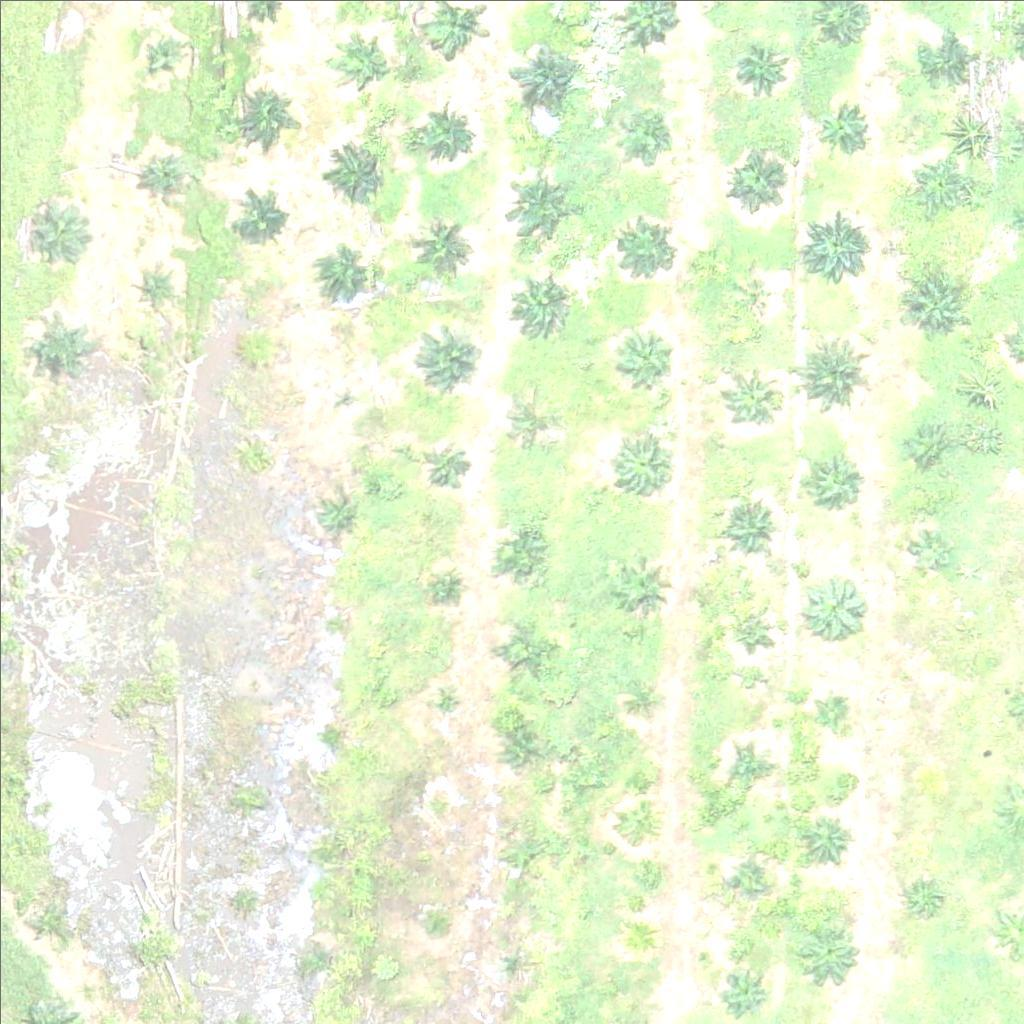Kelapa_Sawit: (407, 83, 482, 159), (504, 164, 579, 240), (411, 311, 486, 387), (403, 209, 478, 285), (799, 331, 874, 406), (797, 217, 872, 292), (506, 33, 581, 108), (805, 579, 868, 642), (18, 203, 81, 266), (29, 319, 92, 382), (314, 247, 377, 310), (729, 145, 792, 208), (724, 38, 787, 101), (907, 269, 969, 332), (805, 452, 867, 515), (800, 920, 862, 983), (229, 85, 291, 148), (722, 495, 784, 558), (230, 185, 292, 248), (612, 215, 674, 278), (325, 140, 388, 202), (509, 273, 571, 336), (612, 551, 674, 614), (492, 518, 554, 581), (614, 431, 676, 494), (610, 320, 672, 383), (720, 366, 782, 429), (493, 617, 555, 680), (917, 154, 967, 205), (822, 103, 872, 154), (806, 811, 856, 862), (729, 741, 779, 792), (423, 437, 473, 488), (922, 33, 972, 83), (725, 962, 775, 1012), (342, 43, 392, 93), (623, 110, 673, 160), (139, 154, 189, 204), (508, 393, 558, 443), (309, 490, 359, 540), (728, 599, 778, 649), (724, 848, 774, 898), (134, 268, 172, 306), (144, 30, 182, 68), (24, 902, 62, 940), (621, 917, 659, 955), (237, 328, 275, 366), (423, 680, 461, 718), (499, 728, 537, 766), (619, 795, 657, 833), (620, 675, 658, 713), (503, 837, 541, 875), (904, 874, 942, 912), (906, 423, 943, 461), (731, 274, 768, 312), (495, 943, 532, 981), (814, 691, 851, 729), (911, 536, 948, 573), (434, 576, 459, 602), (422, 916, 447, 941), (330, 387, 355, 412)
